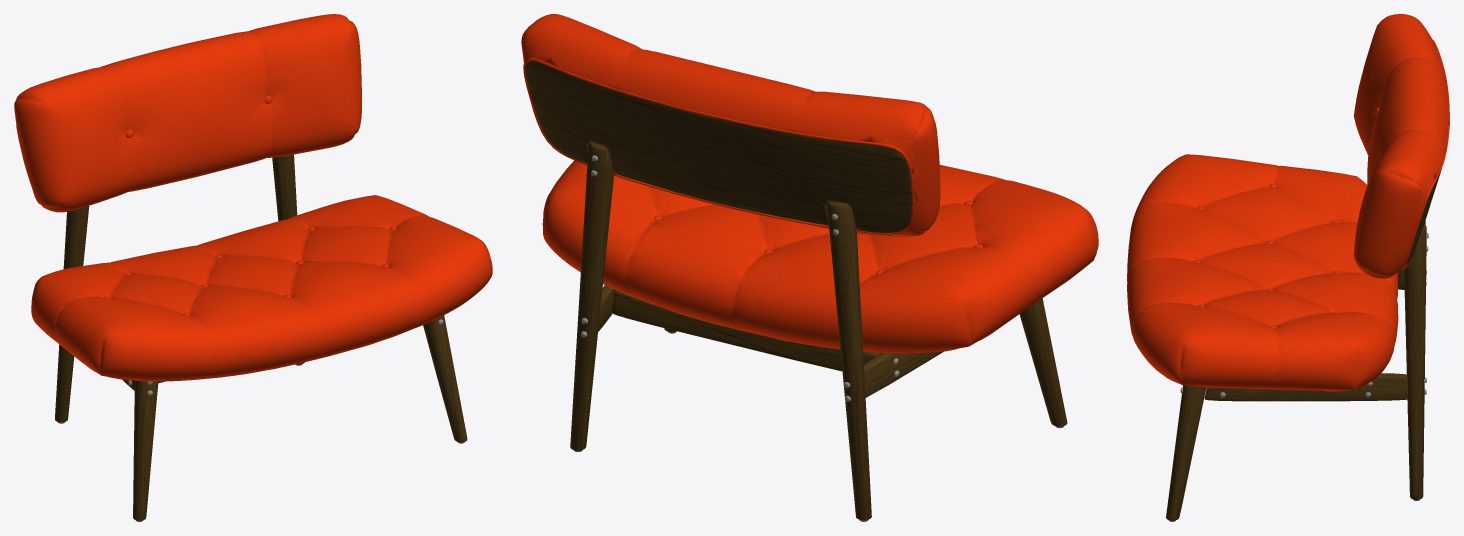
File: khronos-sheen-chair.glb
3 views of the same model, side by side, from view 1: azimuth 30°, elevation 25°; view 2: azimuth 150°, elevation 25°; view 3: azimuth 270°, elevation 25° (orthographic). The views are drawn at different scales.
Visible parts, largest first — view 1: SheenChair_fabric, SheenChair_wood; view 2: SheenChair_fabric, SheenChair_wood; view 3: SheenChair_fabric, SheenChair_wood.
Boxes of the visible parts, bbox=[...] form: SheenChair_fabric: bbox=[14, 14, 492, 381]; SheenChair_wood: bbox=[55, 154, 467, 520]; SheenChair_fabric: bbox=[521, 14, 1098, 354]; SheenChair_wood: bbox=[525, 61, 1067, 520]; SheenChair_fabric: bbox=[1127, 14, 1449, 391]; SheenChair_wood: bbox=[1166, 169, 1441, 520].
Bounding box in the file's own units: 0.8266 × 0.6861 × 0.57.
Materials: 4 (3 with a texture image).
